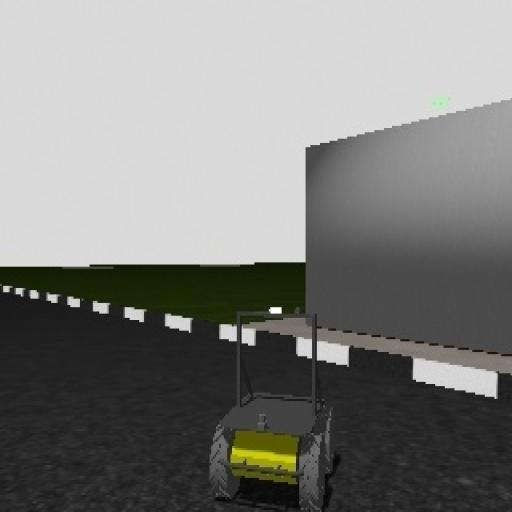huskya200: (203, 304, 331, 512)
